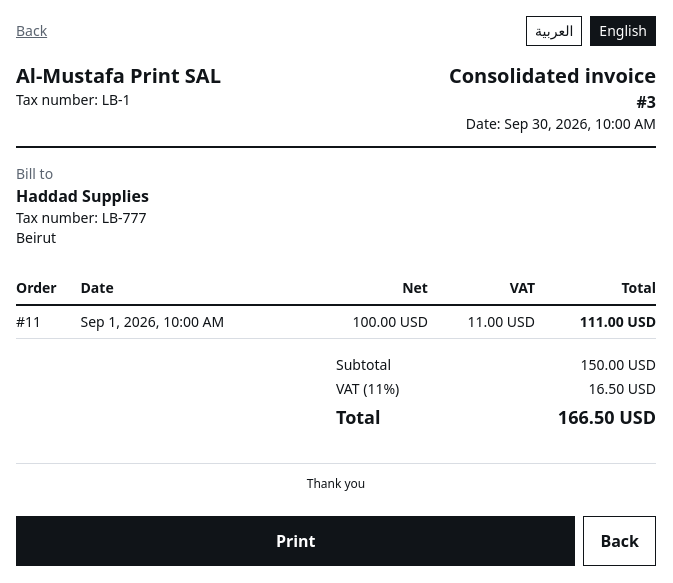
it: consolidated invoices › prints the company, both tax numbers, and the net and VAT split, in either language
Expected: the text "Haddad Supplies" is shown, 16,185 -> 149,207
Expected: the text "LB-777" is shown, 102,208 -> 147,227
What coordinates should you click on to do the following:
click the button "العربية"
I would click on:
 (554, 31)
Its box is 526,16 -> 582,46.
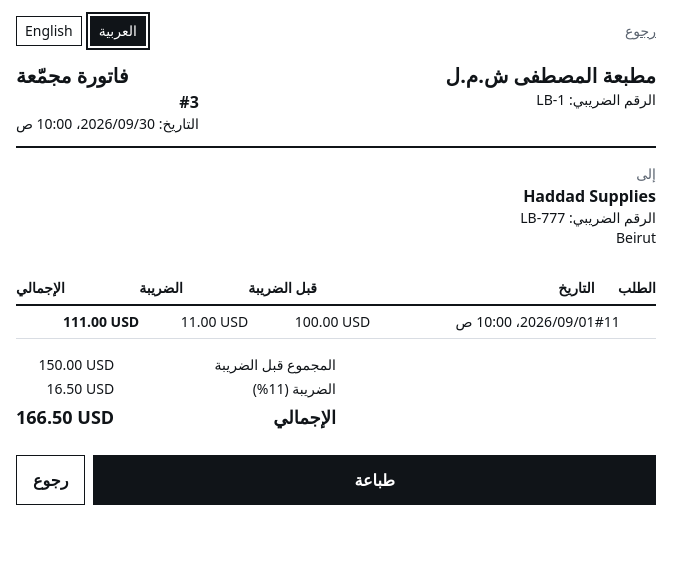
Expected: the text "فاتورة مجمّعة" is shown, 16,62 -> 128,89
Expected: the text "مطبعة المصطفى ش.م.ل" is shown, 446,62 -> 656,90
